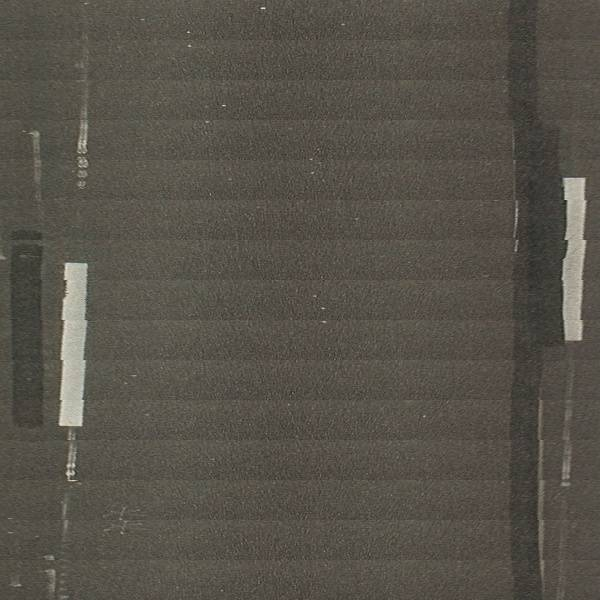road_damage: (507, 347, 545, 600)
